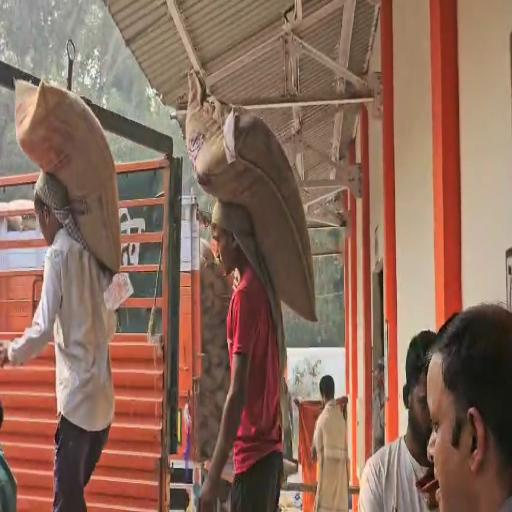bag: (186, 65, 324, 330), (14, 70, 125, 278)
